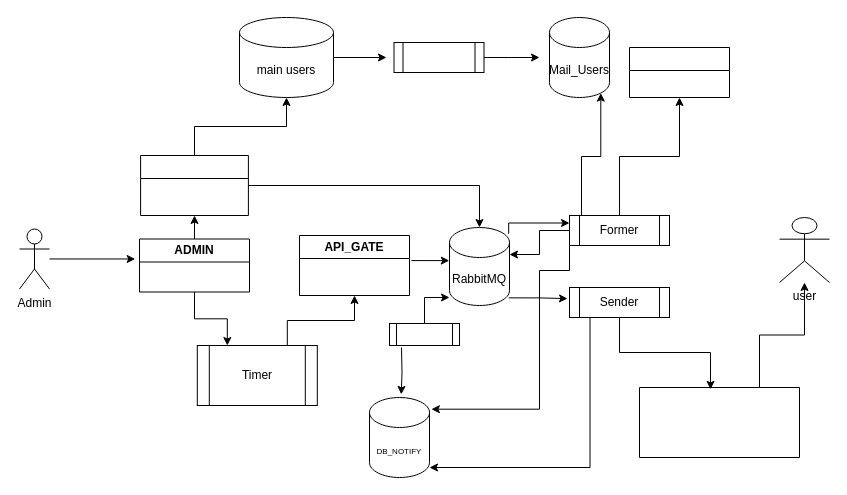
This 847x495 diagram has some shape labels left out. The centre of each missing label's shape, as x and y in pixels:
Apps...: point 679,72
AUTH: point 194,185
Checker: point 424,334
MAIL SERVER: point 719,422
user_etl: point 438,57
